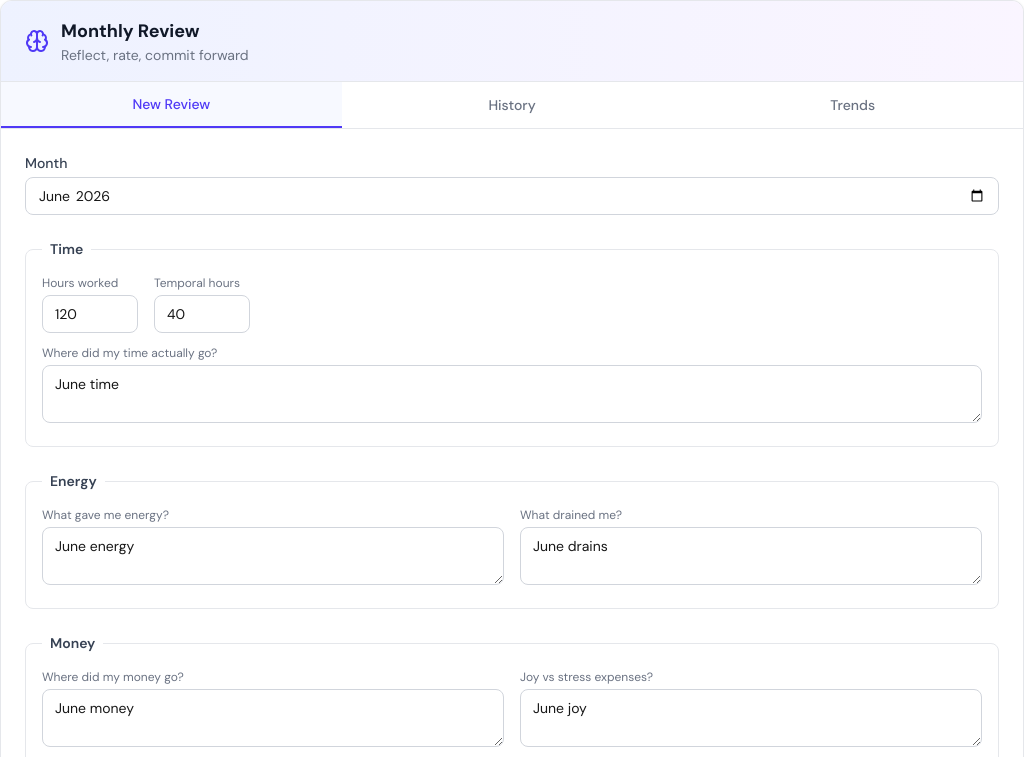
Test case: MonthlyReviewTracker › restores the default previous-month review when canceling an older edit during month start
The image size is (1024, 757).
Expected: the field with test id "monthly-review-month-input" holds "2026-06", [25,177,999,215]
Expected: the text box labelled "What gave me energy?" holds "June energy", [42,527,504,585]
Click the button "History" at (512, 105), box [342,82,682,128]
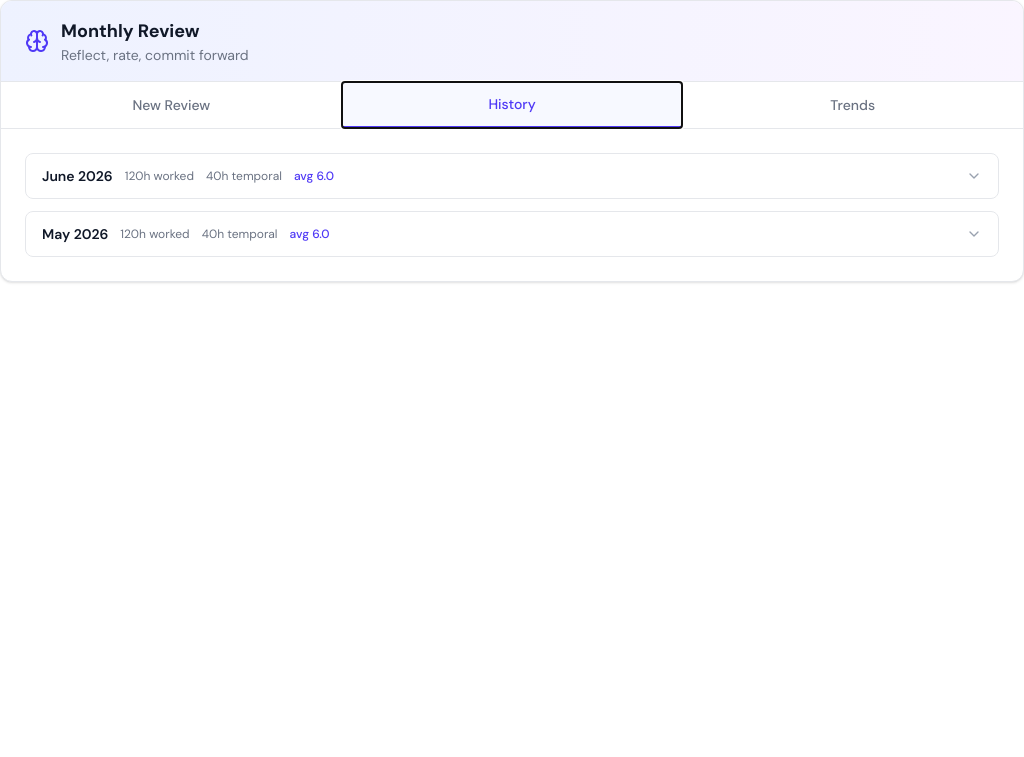
Click the button "May 2026 120h worked 40h temporal avg 6.0" at (75, 234), box [26,212,998,256]
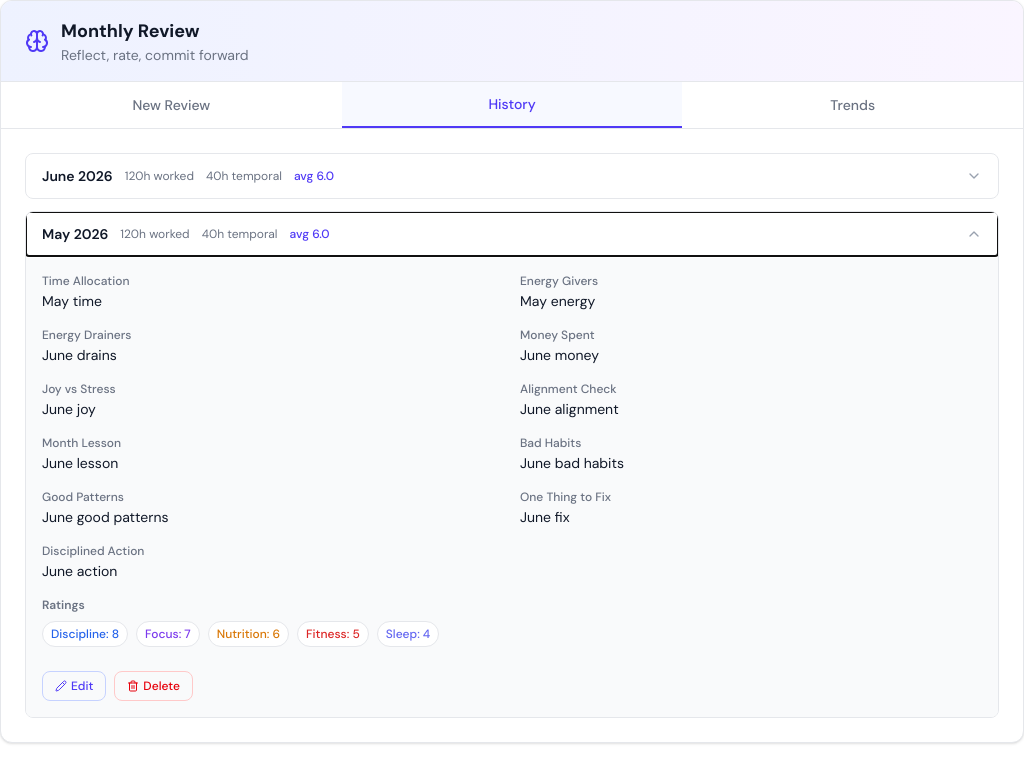
Click the button "Edit" at (74, 686), box [42,671,106,701]
(page scrolled)
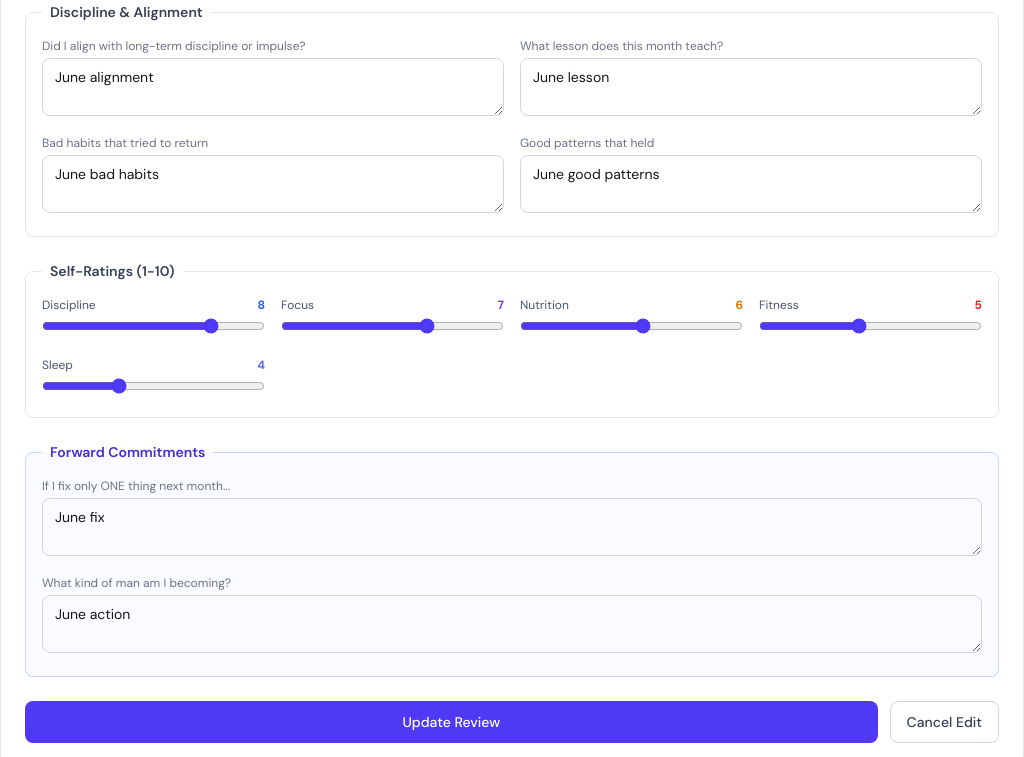
Click the button "Cancel Edit" at (944, 722), box [890,701,999,743]
(page scrolled)
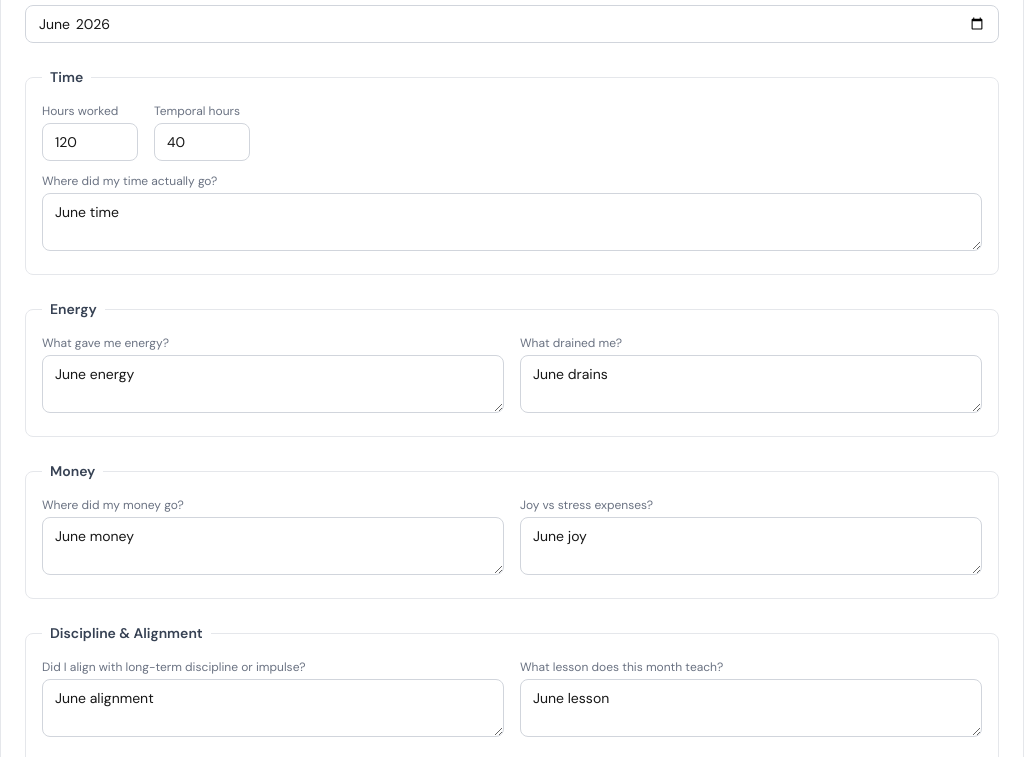
Result: the field with test id "monthly-review-month-input" holds "2026-06" at [25,5,999,43]
Result: the text box labelled "What gave me energy?" holds "June energy" at [42,355,504,413]
